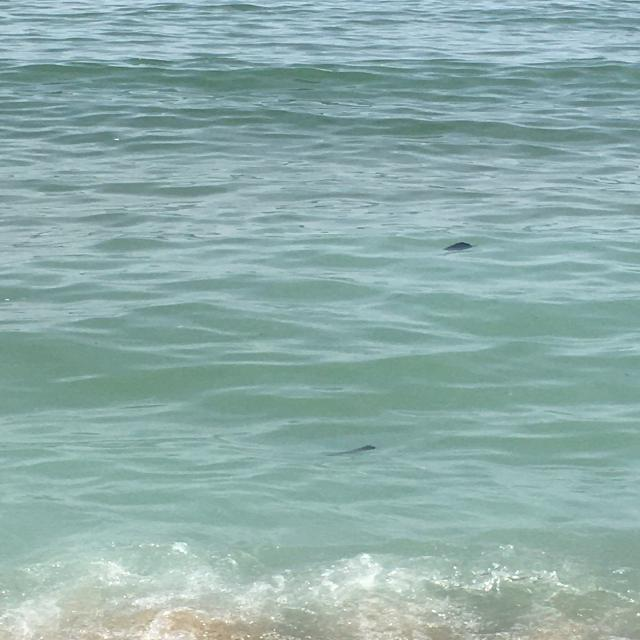Plastic: (434, 239, 486, 260), (324, 442, 379, 458)
